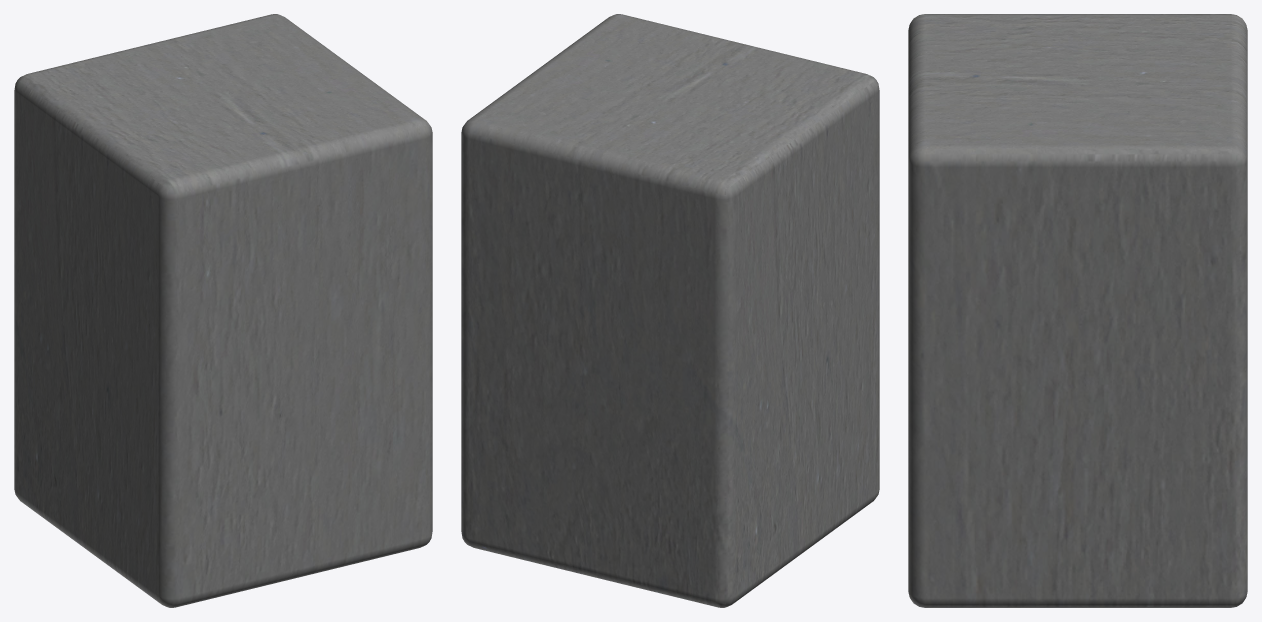
Rendered from SmallBldg.obj.
The picture shows the model from 3 angles, left to right: view 1: azimuth 30°, elevation 25°; view 2: azimuth 150°, elevation 25°; view 3: azimuth 270°, elevation 25°; orthographic projection. The views are drawn at different scales.
Visible parts, largest first — view 1: SmallBldg; view 2: SmallBldg; view 3: SmallBldg.
Part boxes in pixels (x1,y1,x2,y2): SmallBldg: [14, 14, 432, 607]; SmallBldg: [461, 14, 879, 607]; SmallBldg: [908, 14, 1247, 607].
Size of the model in its own units: 200 by 300 by 200.
Materials: 1 (1 with a texture image).
